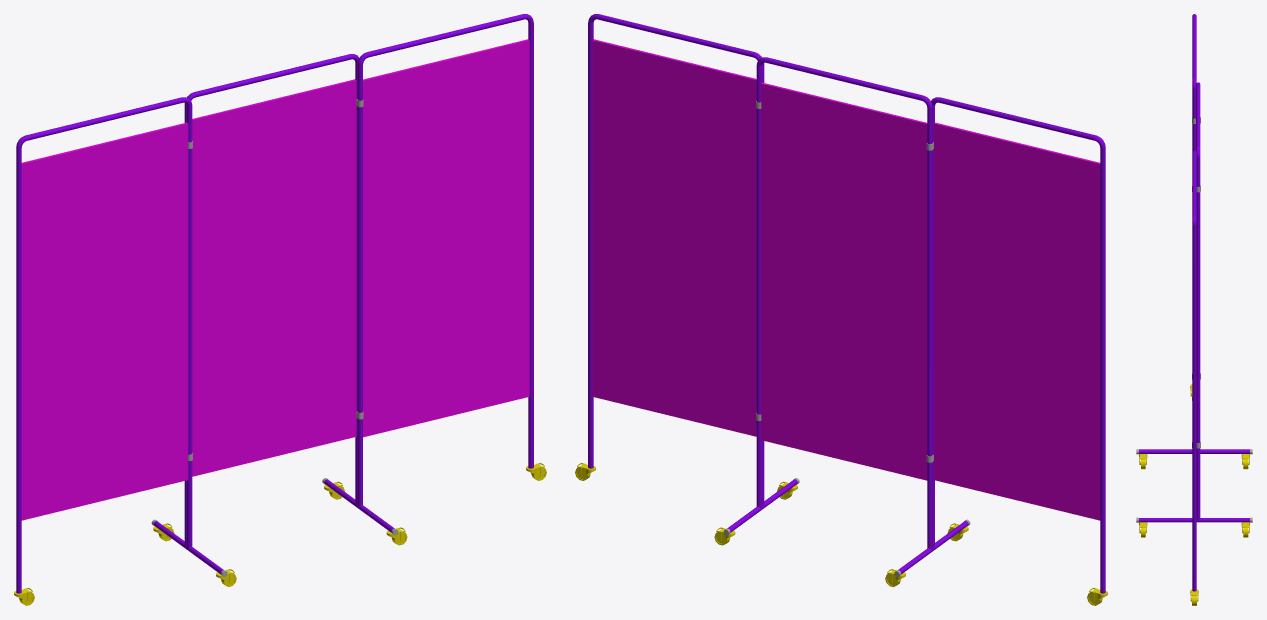
The model's file is Biombo_LowPoly_v1.fbx.
The picture shows the model from 3 angles, left to right: view 1: azimuth 30°, elevation 25°; view 2: azimuth 150°, elevation 25°; view 3: azimuth 270°, elevation 25°; orthographic projection. The views are drawn at different scales.
Parts seen in each view (by area): view 1: polySurface53, polySurface206, polySurface205, polySurface60, polySurface88, polySurface74; view 2: polySurface53, polySurface205, polySurface206, polySurface74, polySurface60, polySurface88; view 3: polySurface88, polySurface74, polySurface60, polySurface87, polySurface59.
Part boxes in pixels (bbox=[...]): polySurface53: bbox=[21, 122, 188, 520]; polySurface206: bbox=[363, 39, 529, 437]; polySurface205: bbox=[192, 79, 356, 476]; polySurface60: bbox=[16, 97, 192, 593]; polySurface88: bbox=[357, 14, 533, 506]; polySurface74: bbox=[184, 54, 359, 546]; polySurface53: bbox=[933, 122, 1100, 520]; polySurface205: bbox=[760, 82, 927, 480]; polySurface206: bbox=[592, 39, 756, 436]; polySurface74: bbox=[756, 57, 932, 550]; polySurface60: bbox=[931, 97, 1105, 593]; polySurface88: bbox=[588, 14, 764, 506]; polySurface88: bbox=[1192, 151, 1196, 591]; polySurface74: bbox=[1196, 82, 1200, 520]; polySurface60: bbox=[1192, 14, 1196, 151]; polySurface87: bbox=[1139, 518, 1249, 522]; polySurface59: bbox=[1139, 449, 1249, 453].
Size of the model in its own units: 2.18 by 1.84 by 0.5024.
